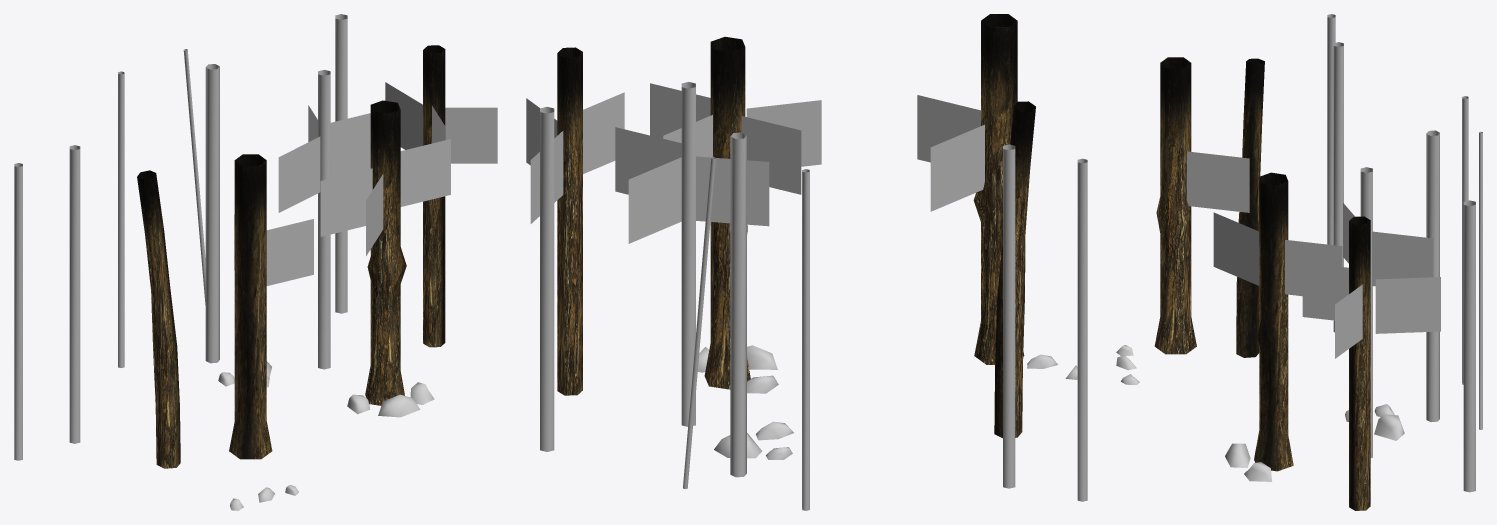
File: cj_mod.fbx
The picture shows the model from 3 angles, left to right: view 1: azimuth 30°, elevation 25°; view 2: azimuth 150°, elevation 25°; view 3: azimuth 270°, elevation 25°; orthographic projection. The views are drawn at different scales.
Visible parts, largest first — view 1: cj_mod; view 2: cj_mod; view 3: cj_mod.
Boxes of the visible parts, x1,y1,x2,y2 form: cj_mod: [14, 14, 497, 510]; cj_mod: [526, 14, 1087, 510]; cj_mod: [1116, 14, 1482, 510].
Size of the model in its own units: 2301 by 1460 by 1546.
